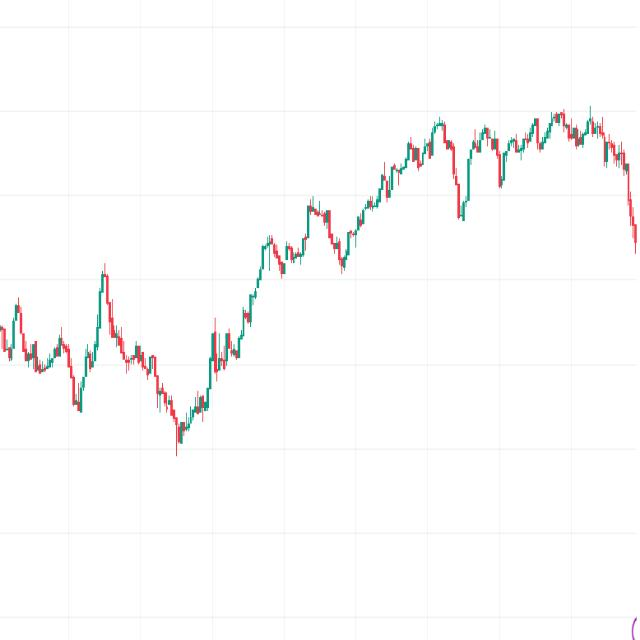Ascending-Triangle: (440, 102, 624, 258)
Cup-and-handle: (96, 192, 316, 457)
Inverse-Head-Shoulders: (111, 315, 256, 446)
